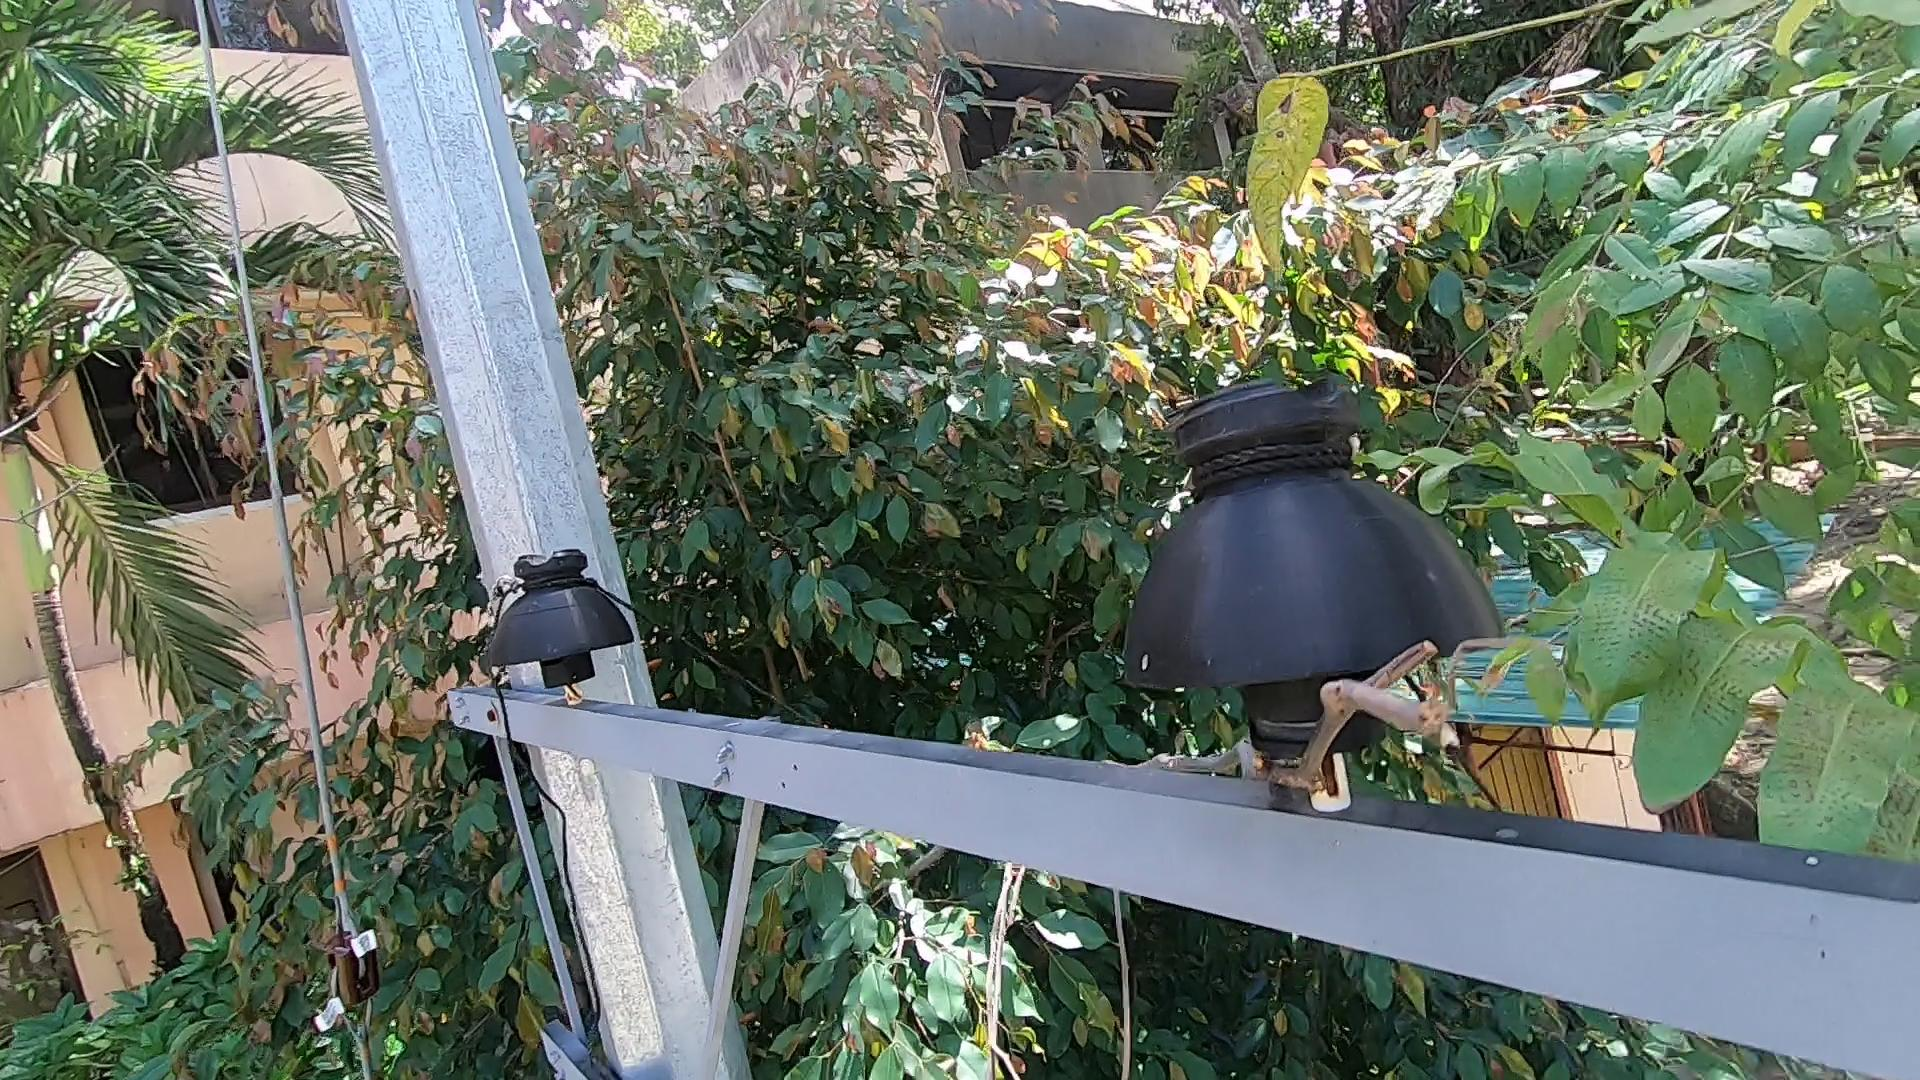tree branch: (1087, 636, 1493, 777), (873, 840, 1069, 1071)
